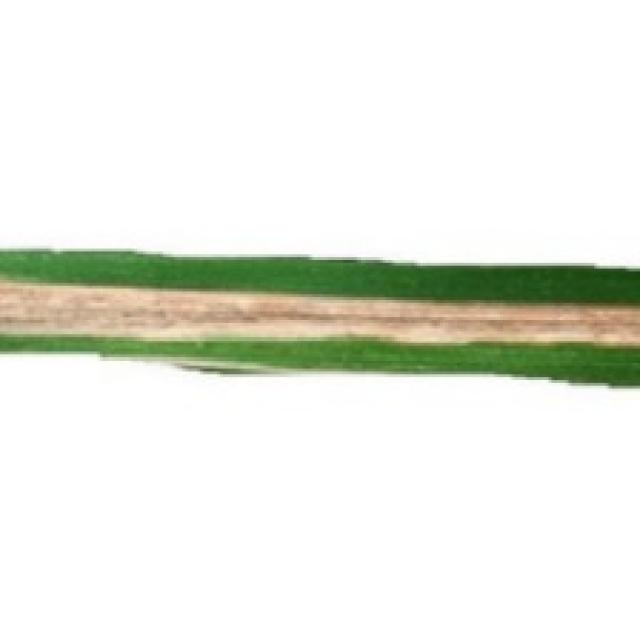Rice___Bacterial_Leaf_Blight: (0, 245, 637, 391)
